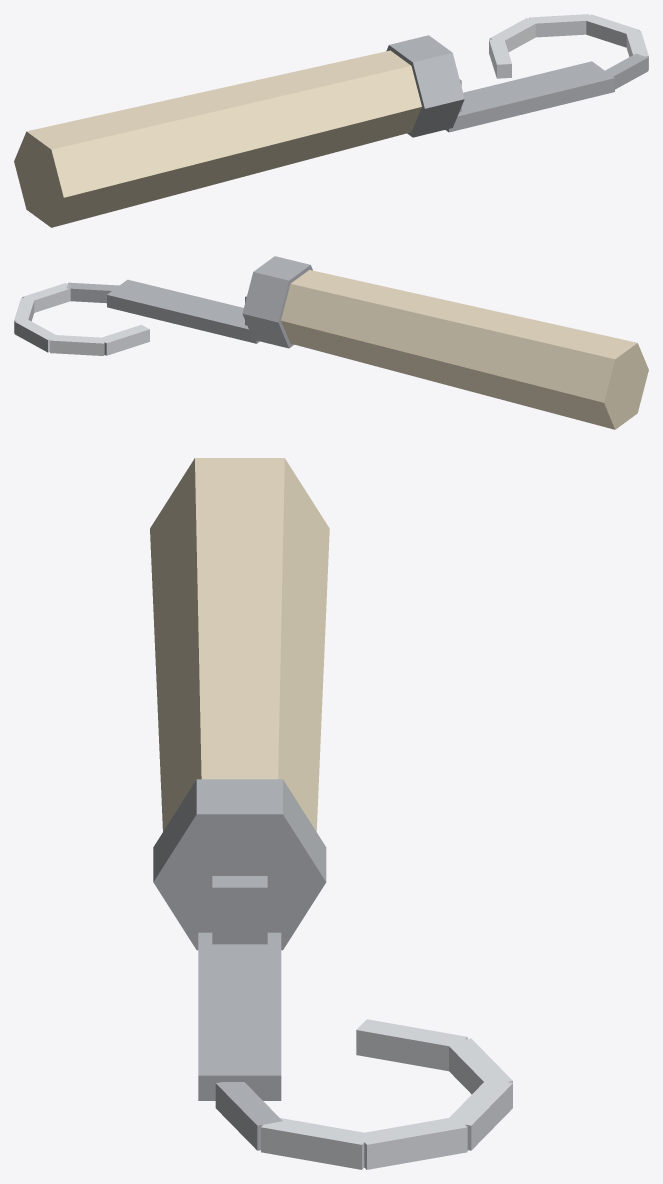
File: prop-hook-knife-sc1.fbx
3 views of the same model, one above another, from view 1: azimuth 30°, elevation 25°; view 2: azimuth 150°, elevation 25°; view 3: azimuth 270°, elevation 25° (orthographic). The views are drawn at different scales.
Parts seen in each view (by area): view 1: prop-hook-knife-sc1; view 2: prop-hook-knife-sc1; view 3: prop-hook-knife-sc1.
Part boxes in pixels (box(x1,y1,x2,y2)): prop-hook-knife-sc1: box(14, 14, 648, 227); prop-hook-knife-sc1: box(14, 256, 648, 429); prop-hook-knife-sc1: box(150, 458, 512, 1169).
Size of the model in its own units: 19.15 by 2.43 by 5.25.
